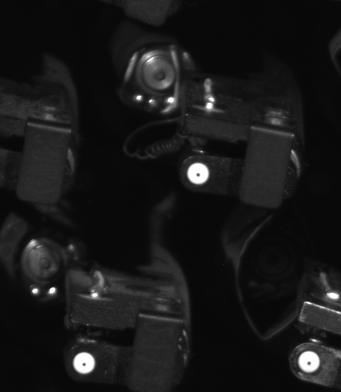fiber: (293, 345, 327, 378), (180, 157, 215, 189), (68, 349, 102, 377)
